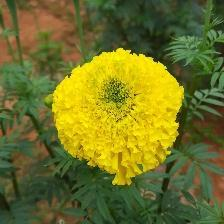marigold: (51, 49, 186, 179)
